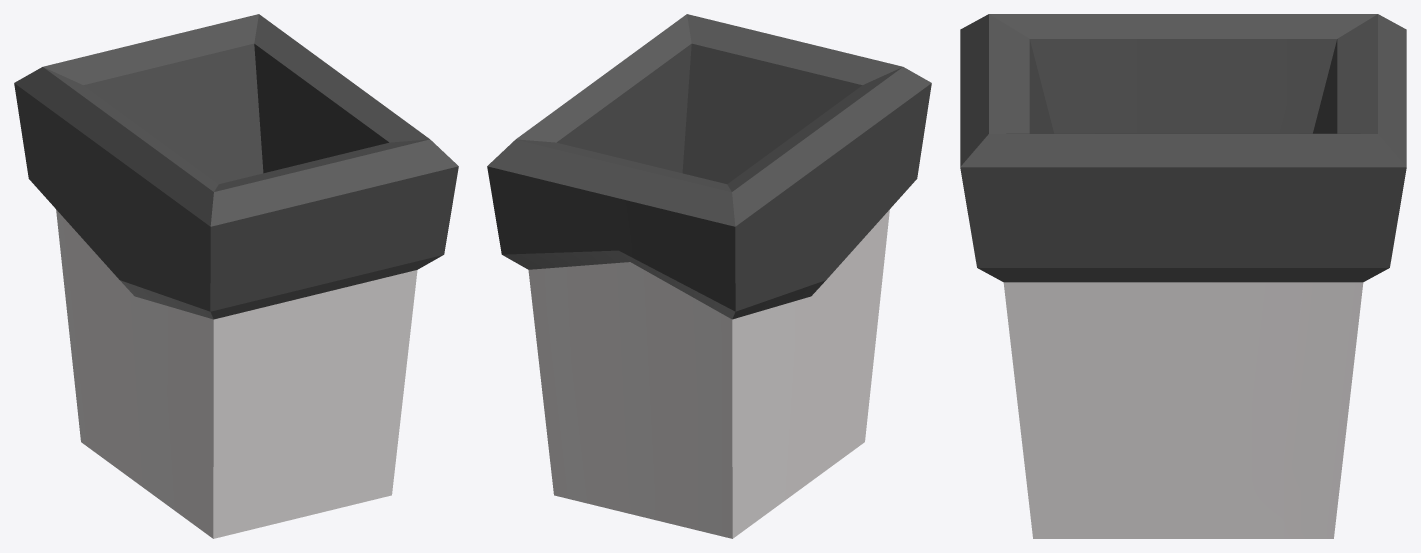
The model's file is trash can and floor.fbx.
3 renders of one model, left to right at view 1: azimuth 30°, elevation 25°; view 2: azimuth 150°, elevation 25°; view 3: azimuth 270°, elevation 25°, orthographic. The views are drawn at different scales.
Visible parts, largest first — view 1: pCube298; view 2: pCube298; view 3: pCube298.
Boxes of the visible parts, box(x1,y1,x2,y2) form: pCube298: box(14, 14, 458, 538); pCube298: box(487, 14, 931, 538); pCube298: box(960, 14, 1406, 538).
Size of what is drawn, in the model's own units: 0.6006 by 0.8454 by 0.8236.
